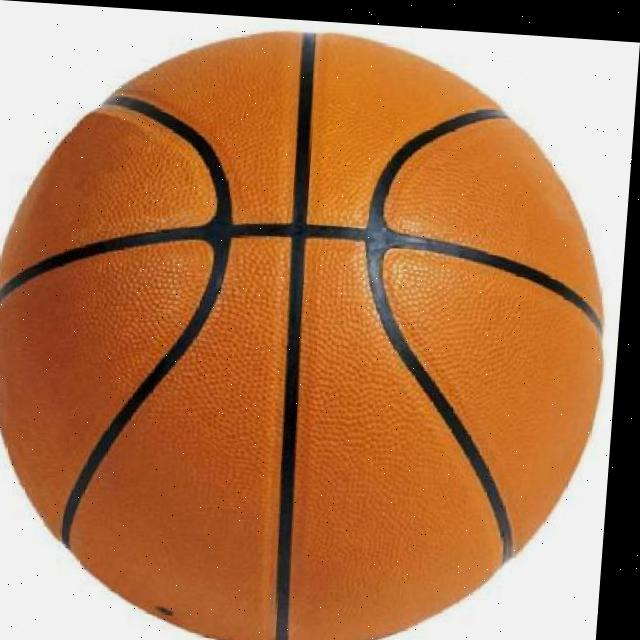Basketball: (0, 12, 628, 640)
